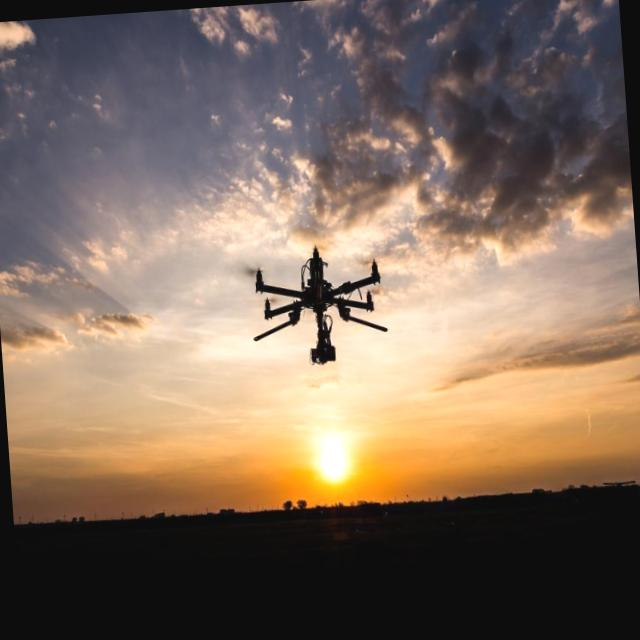drone: (247, 236, 392, 372)
